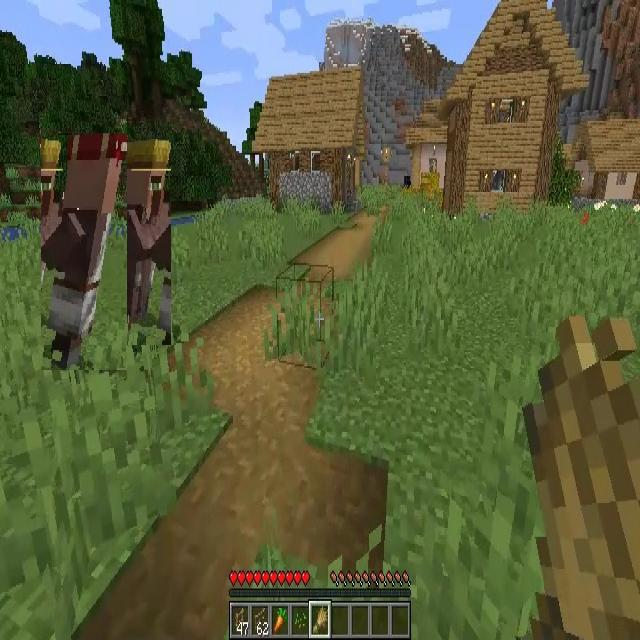people: (41, 133, 127, 370), (107, 139, 171, 345)
